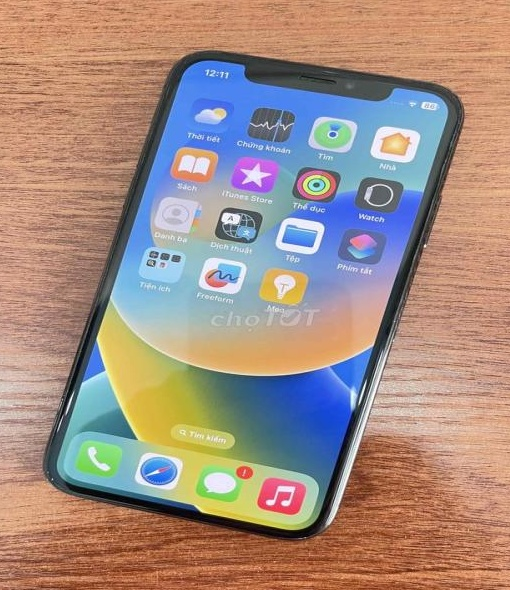scratch: (168, 46, 233, 67), (38, 465, 66, 490), (419, 241, 438, 258)
